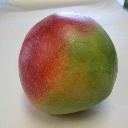mango: (18, 11, 118, 115)
